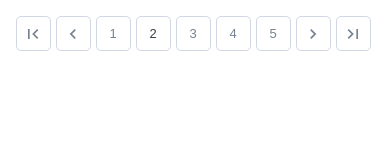
Test: <Pagination/> › click LastPageButton to disable LastPageButton
The width and height of the screenshot is (388, 160).
Click the button with test id "last-page-button" at [353, 34], box left=336, top=16, right=370, bottom=51
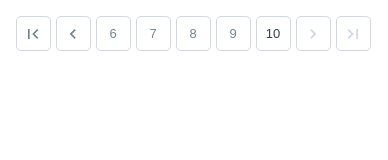
Result: the button with test id "last-page-button" is disabled at left=336, top=16, right=370, bottom=51
